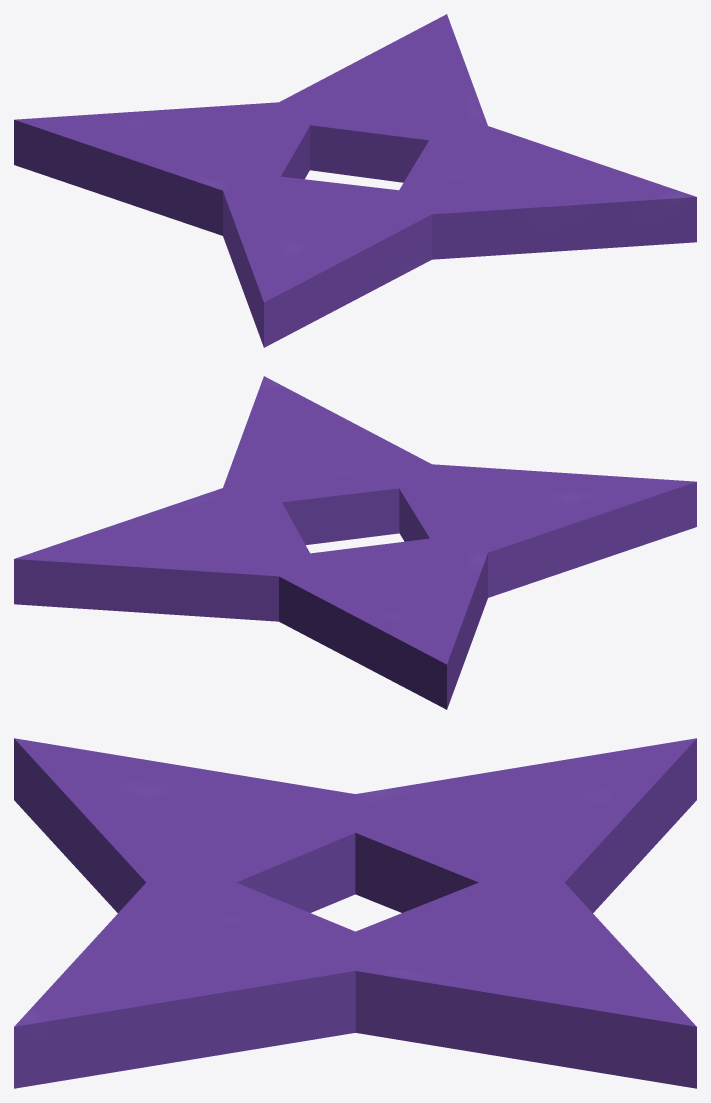
The model's file is Shuriken.fbx.
3 renders of one model, top to bottom at view 1: azimuth 30°, elevation 25°; view 2: azimuth 150°, elevation 25°; view 3: azimuth 270°, elevation 25°, orthographic. The views are drawn at different scales.
Parts seen in each view (by area): view 1: Cube; view 2: Cube; view 3: Cube.
Part boxes in pixels (bbox=[...]): Cube: bbox=[14, 14, 696, 347]; Cube: bbox=[14, 376, 696, 709]; Cube: bbox=[14, 738, 696, 1088].
Bounding box in the file's own units: 20 × 2 × 20.
Materials: 1 (1 with a texture image).
